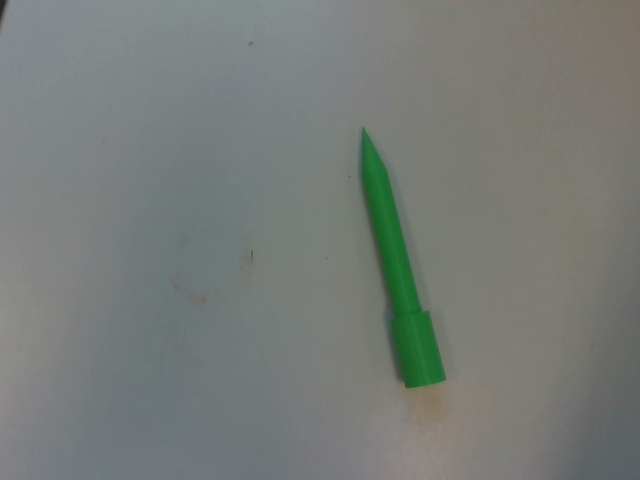Probe: (355, 121, 454, 393)
